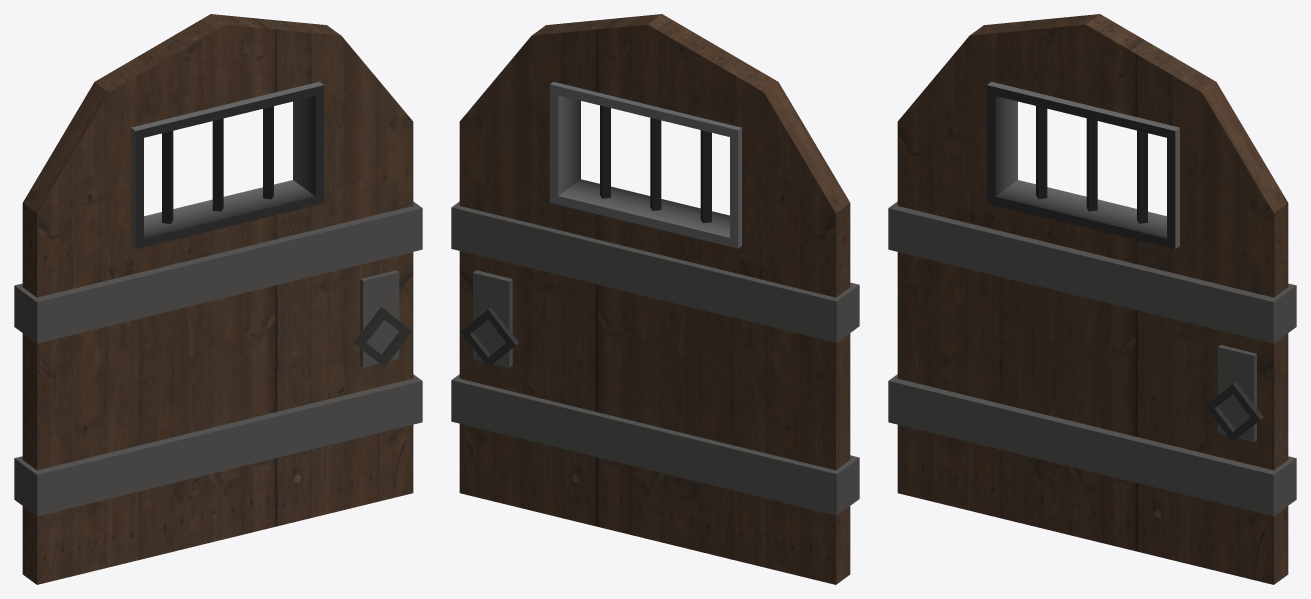
The model's file is Dungeon Door.fbx.
3 renders of one model, left to right at view 1: azimuth 30°, elevation 25°; view 2: azimuth 150°, elevation 25°; view 3: azimuth 330°, elevation 25°, orthographic.
Parts seen in each view (by area): view 1: Dungeon Door; view 2: Dungeon Door; view 3: Dungeon Door.
Part boxes in pixels (left/top/right/bottom): Dungeon Door: left=14, top=14, right=422, bottom=584; Dungeon Door: left=451, top=14, right=859, bottom=584; Dungeon Door: left=888, top=14, right=1296, bottom=584.
Bounding box in the file's own units: 1.95 × 2.48 × 0.2377.
